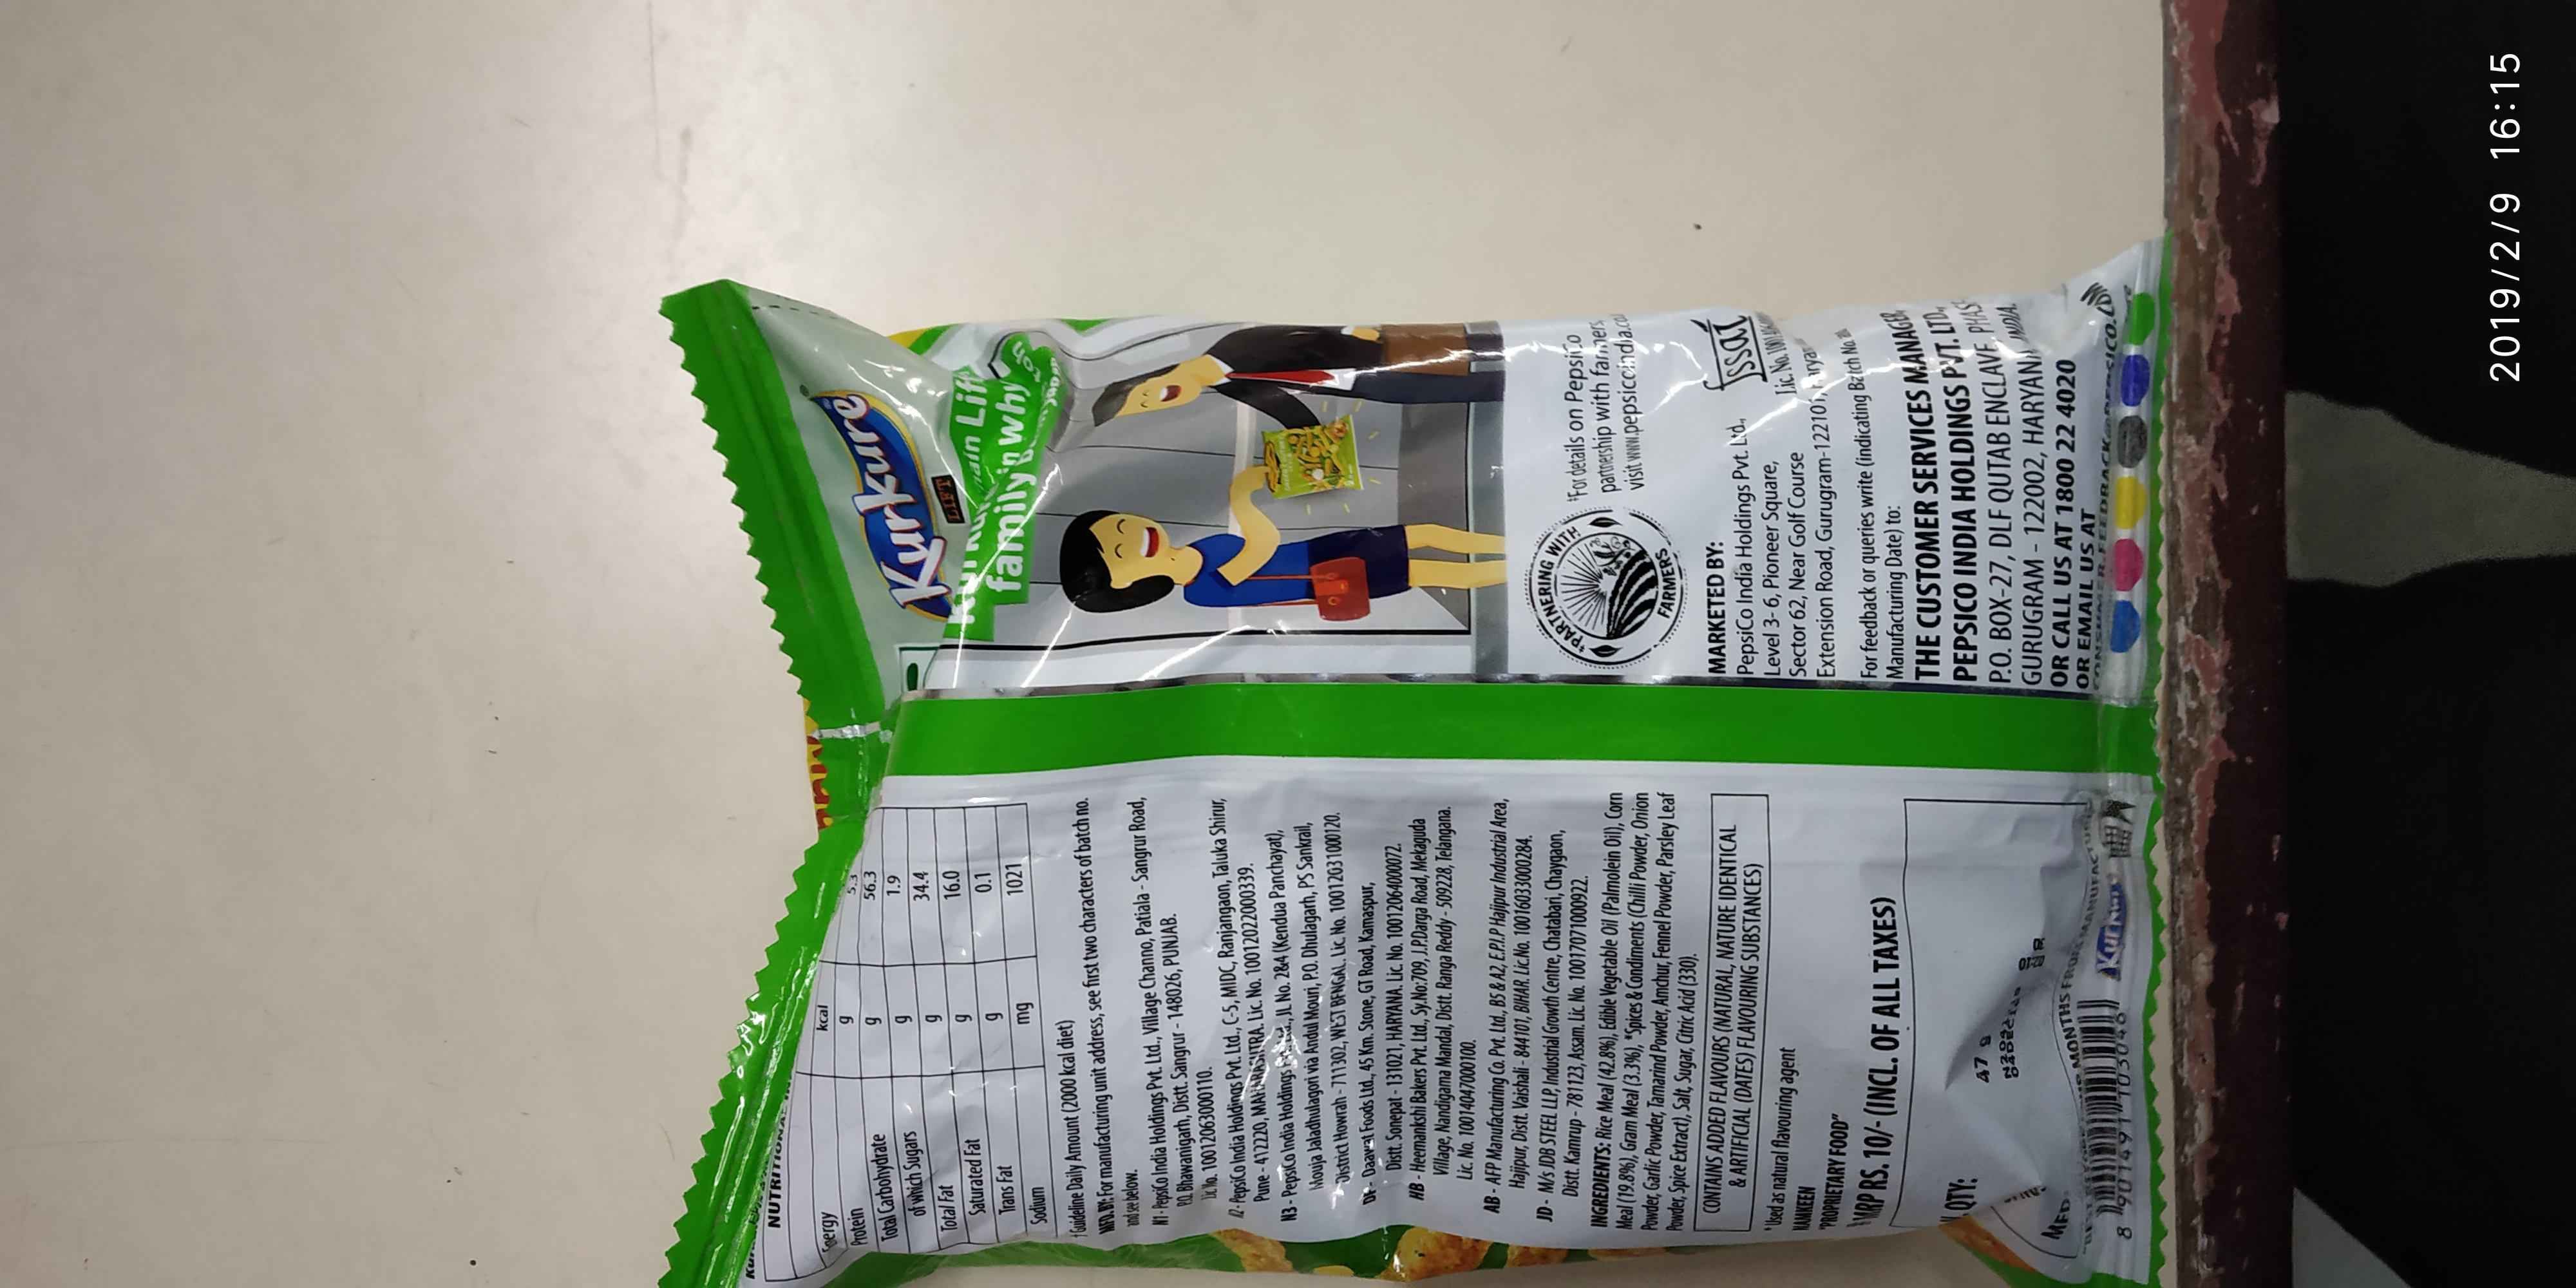kurkure: (797, 373, 966, 621)
